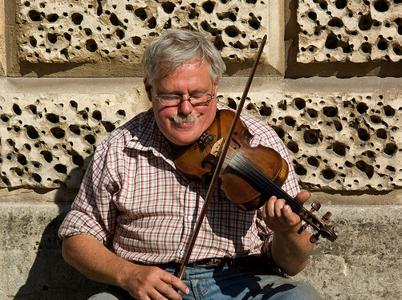person: (56, 30, 325, 300)
